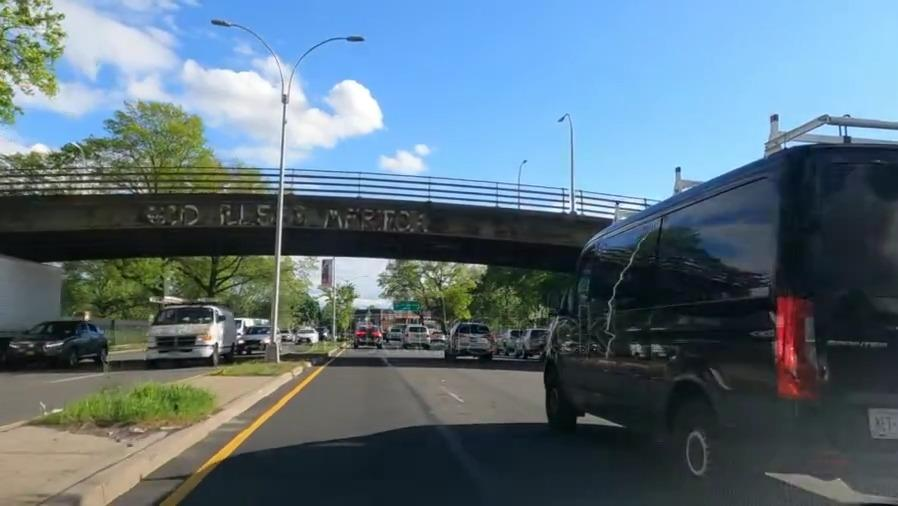car: (11, 315, 118, 374), (450, 320, 493, 363), (238, 325, 280, 354), (356, 322, 387, 348), (402, 323, 433, 346), (295, 328, 315, 344)
van: (577, 146, 892, 492), (144, 299, 235, 367)
wheel: (661, 391, 729, 490), (537, 375, 579, 425)
